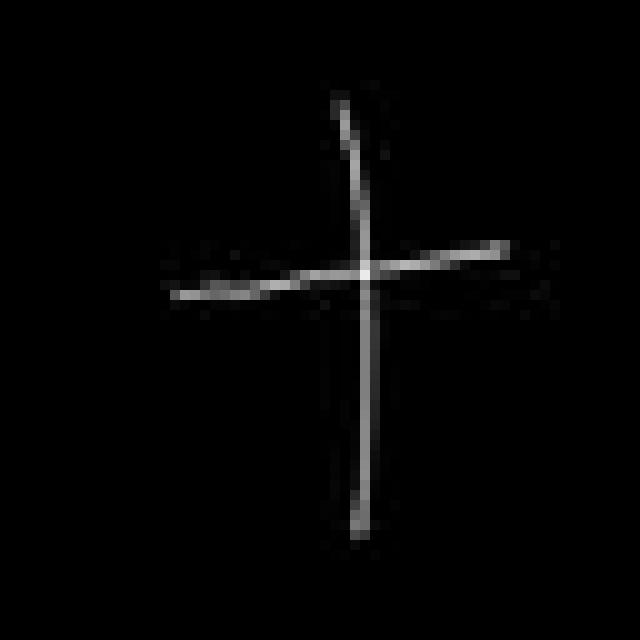10 -ten-: (155, 88, 515, 543)
